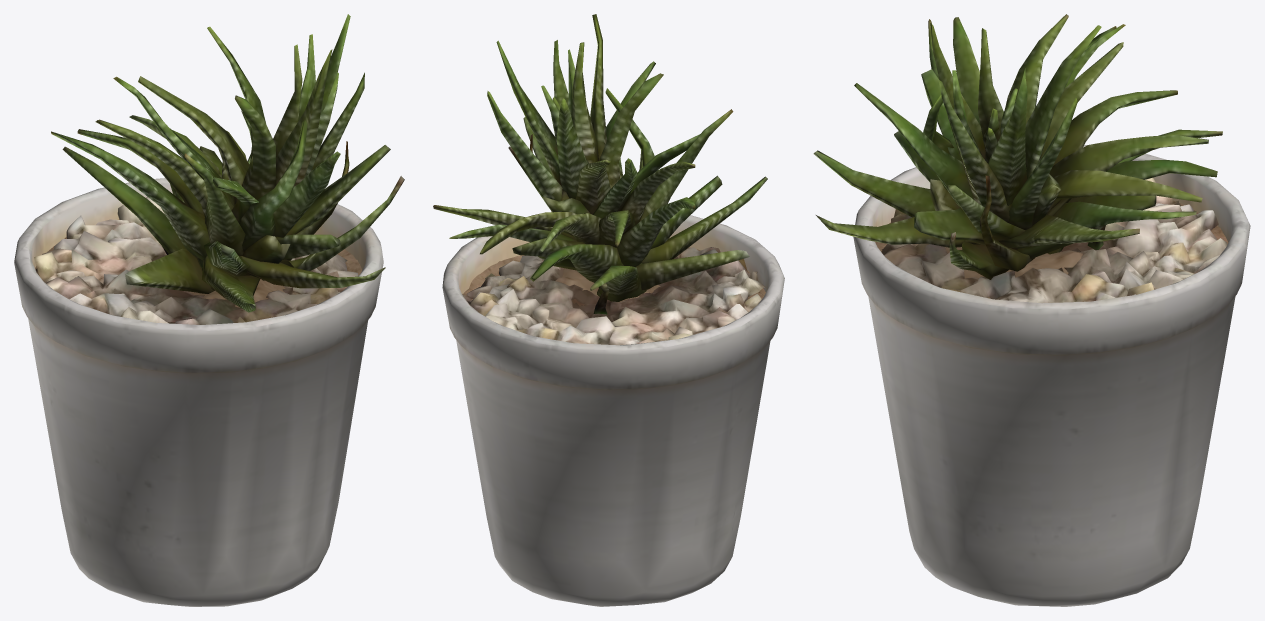
The model's file is planta_suculenta.glb.
3 views of the same model, side by side, from view 1: azimuth 30°, elevation 25°; view 2: azimuth 150°, elevation 25°; view 3: azimuth 270°, elevation 25° (orthographic). The views are drawn at different scales.
Visible parts, largest first — view 1: planta_suculenta; view 2: planta_suculenta; view 3: planta_suculenta.
Boxes of the visible parts, bbox=[...] form: planta_suculenta: bbox=[14, 14, 404, 606]; planta_suculenta: bbox=[433, 14, 784, 606]; planta_suculenta: bbox=[813, 14, 1250, 606].
Bounding box in the file's own units: 0.168 × 0.2674 × 0.1849.
Materials: 1 (1 with a texture image).
